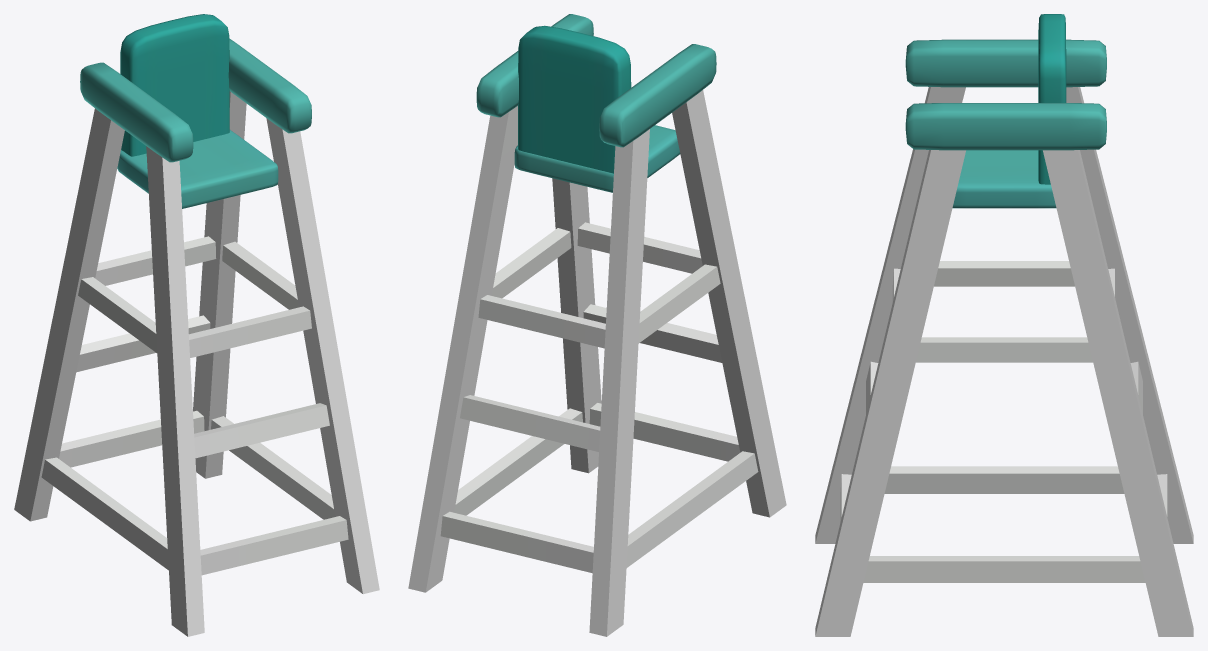
Rendered from life-guard-chair-01.glb.
The picture shows the model from 3 angles, left to right: view 1: azimuth 30°, elevation 25°; view 2: azimuth 150°, elevation 25°; view 3: azimuth 270°, elevation 25°; orthographic projection. The views are drawn at different scales.
Parts seen in each view (by area): view 1: life guard chair 01; view 2: life guard chair 01; view 3: life guard chair 01.
Boxes of the visible parts, x1,y1,x2,y2 form: life guard chair 01: [14, 14, 379, 636]; life guard chair 01: [408, 14, 786, 636]; life guard chair 01: [815, 14, 1193, 636].
Size of the model in its own units: 1.28 by 3.24 by 2.01.
Materials: 1 (1 with a texture image).
